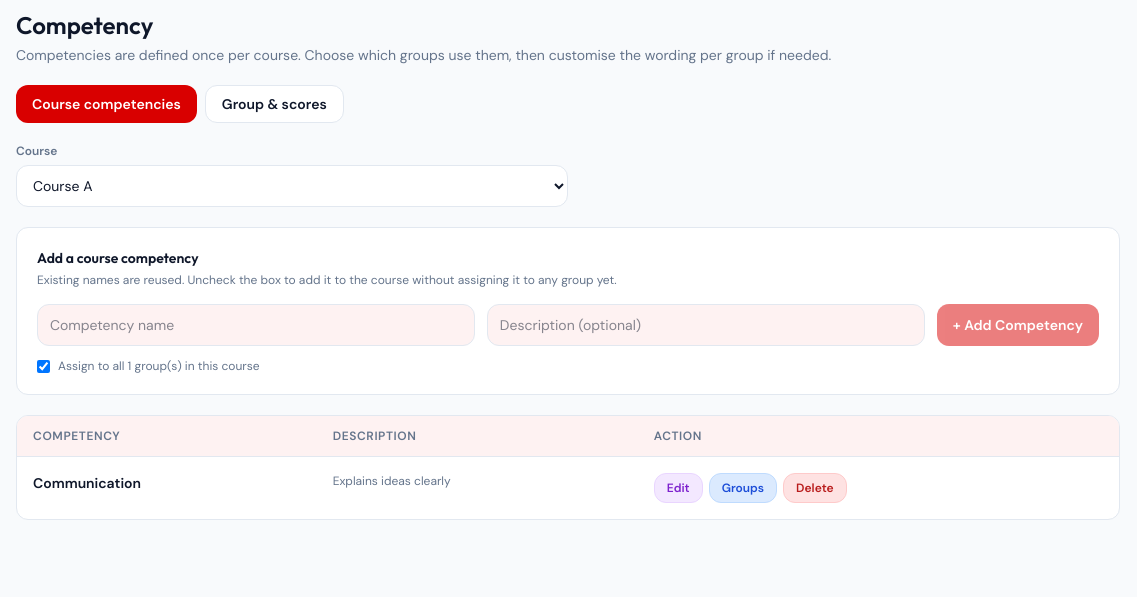
TeacherCompetency - current UI › creates a course competency with the current form fields
This screenshot has width=1137, height=597.
In the field with placeholder "Competency name": [256, 325] box [37,304,475,346], type "Teamwork"
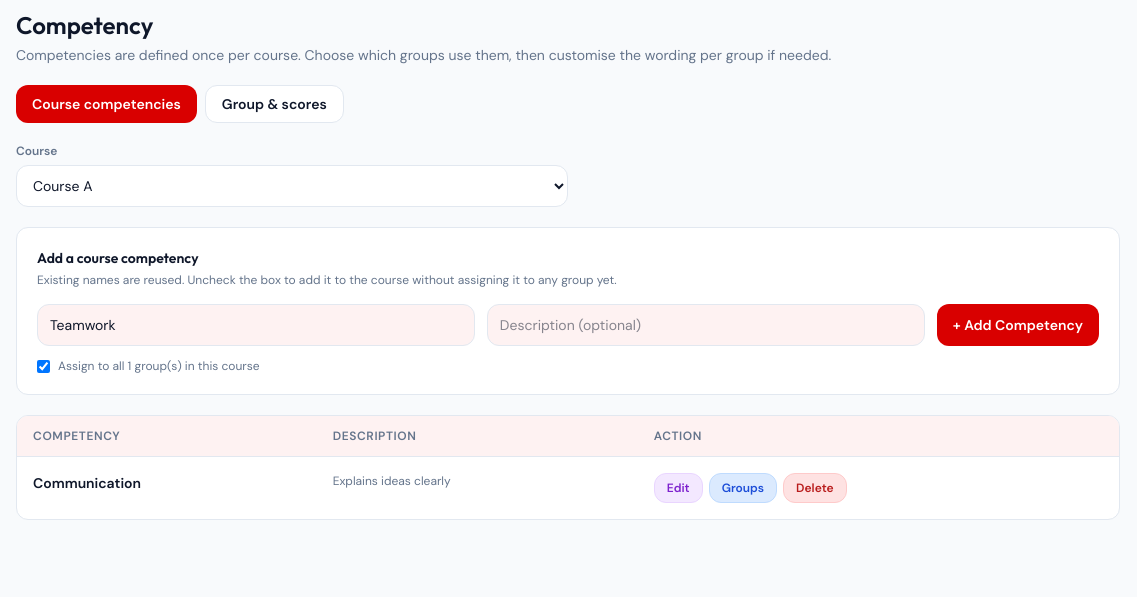
In the field with placeholder "Description (optional)": [706, 325] box [487,304,925,346], type "Works well with others"
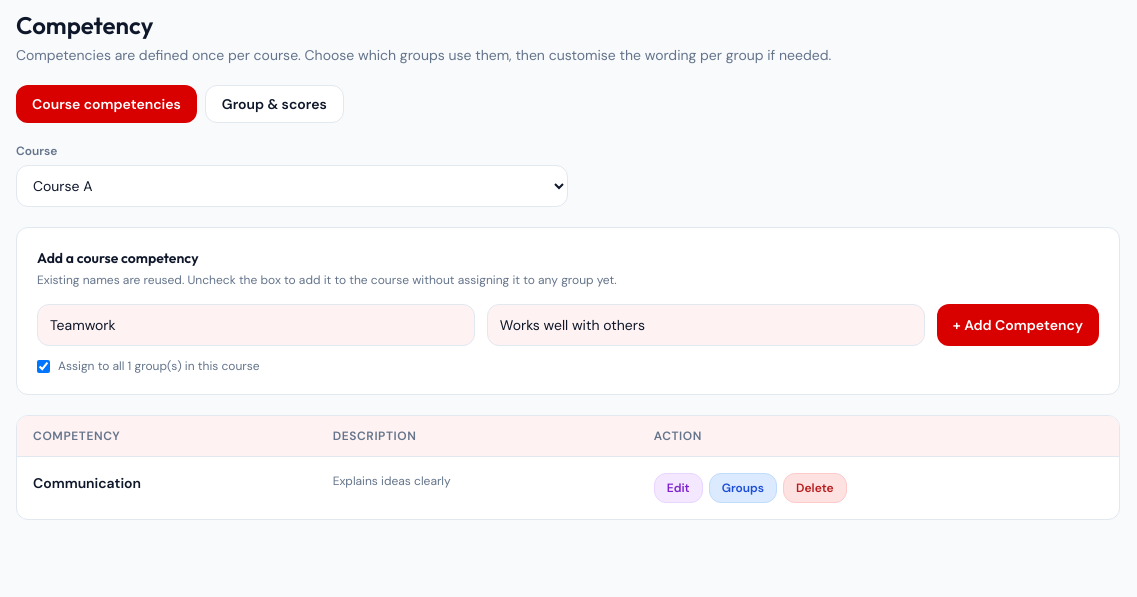
Click the button "+ Add Competency": [1018, 325] box [937,304,1099,346]
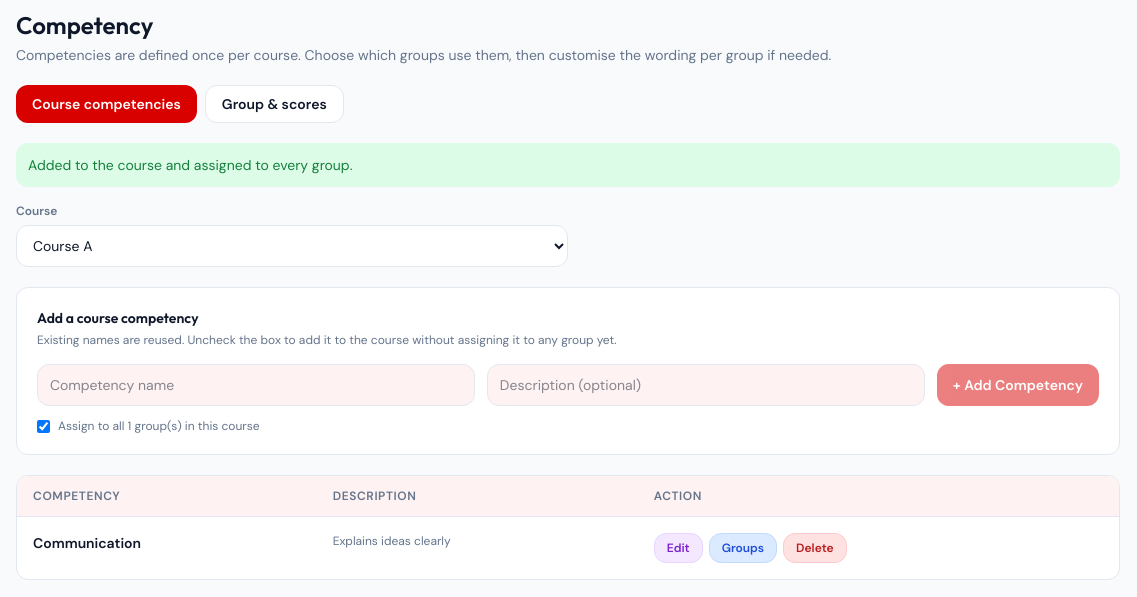
Expected: the text "Added to the course and assigned to every group." is shown, [16,143,1120,187]
Expected: the field with placeholder "Competency name" is empty, [37,364,475,406]
